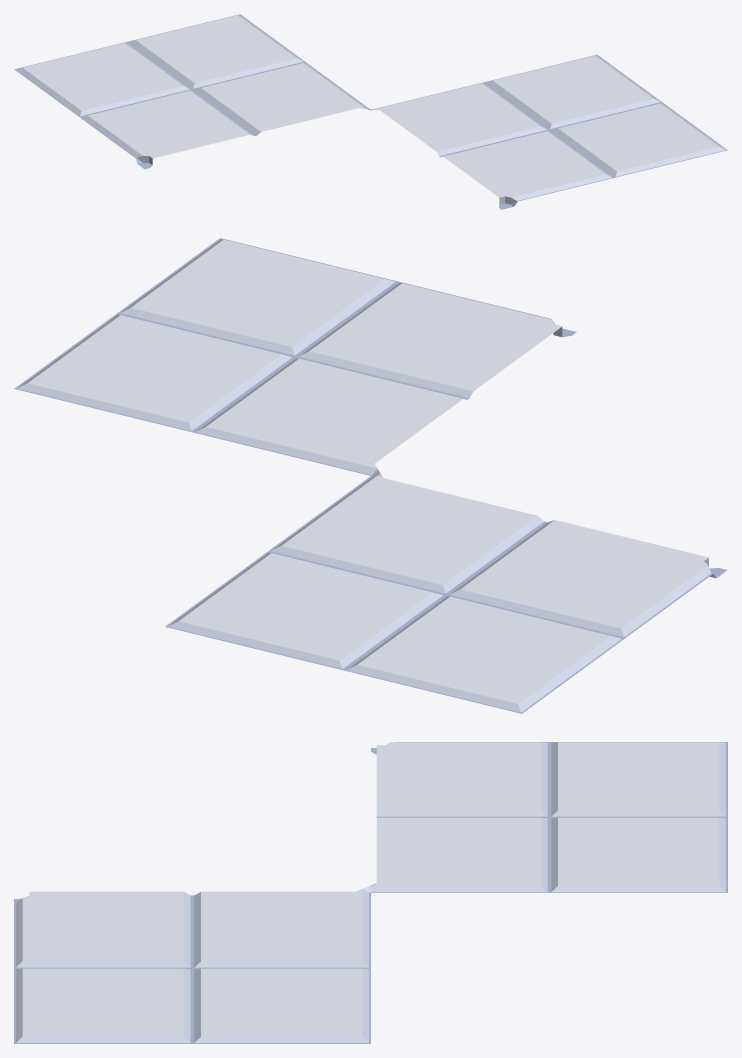
The model's file is Tile_Floor_Corner_Out.fbx.
The picture shows the model from 3 angles, top to bottom: view 1: azimuth 30°, elevation 25°; view 2: azimuth 150°, elevation 25°; view 3: azimuth 270°, elevation 25°; orthographic projection. The views are drawn at different scales.
Visible parts, largest first — view 1: Tile_Floor_CornerOut; view 2: Tile_Floor_CornerOut; view 3: Tile_Floor_CornerOut.
Boxes of the visible parts, box(x1,y1,x2,y2) form: Tile_Floor_CornerOut: box(14, 14, 727, 209); Tile_Floor_CornerOut: box(14, 238, 727, 713); Tile_Floor_CornerOut: box(14, 742, 727, 1043).
Bounding box in the file's own units: 400 × 5.9 × 400.
1 material, 1 textured.
